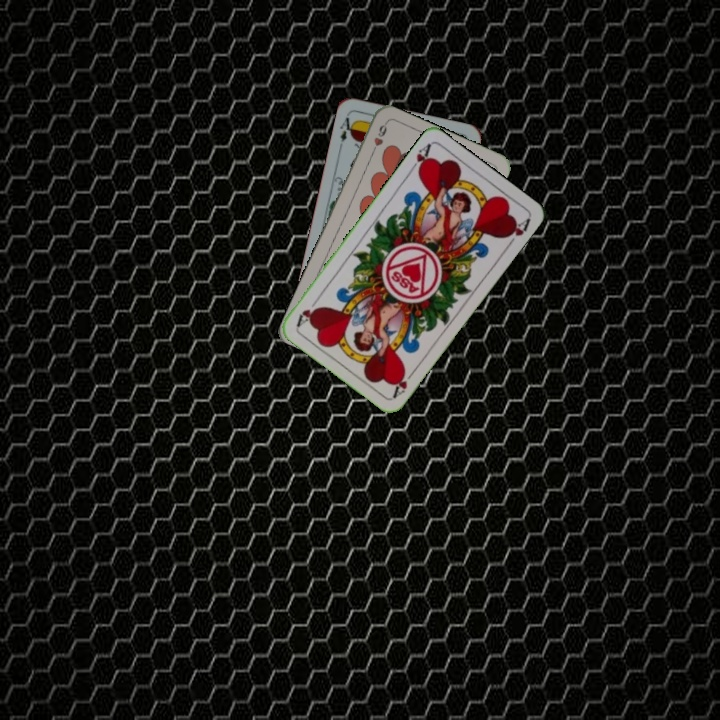EA: (335, 111, 358, 151)
H9: (367, 119, 389, 158)
HA: (405, 140, 433, 177), (389, 365, 418, 400)
